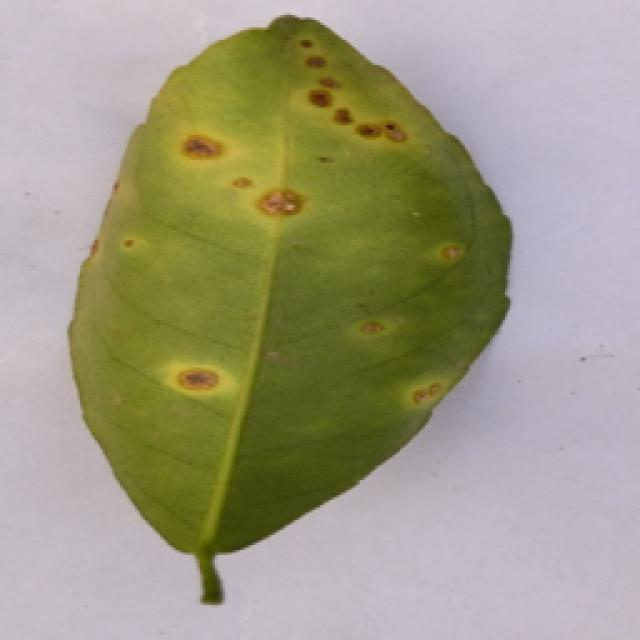canker: (72, 20, 492, 532)
